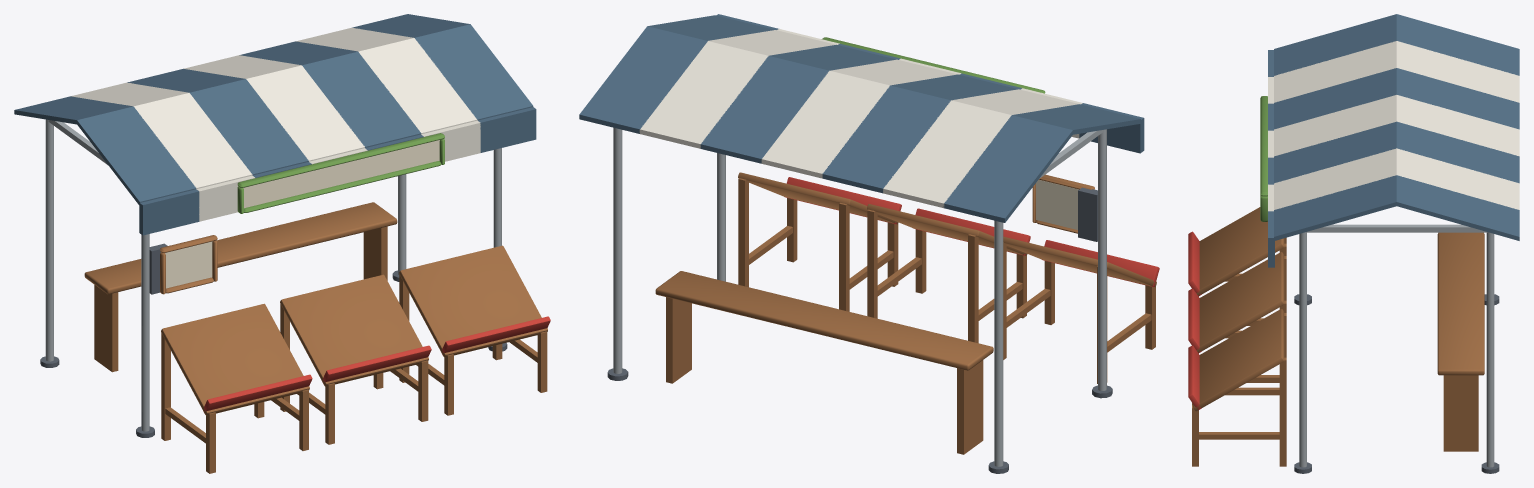
File: fruit_stall.glb
The picture shows the model from 3 angles, left to right: view 1: azimuth 30°, elevation 25°; view 2: azimuth 150°, elevation 25°; view 3: azimuth 270°, elevation 25°; orthographic projection. The views are drawn at different scales.
Parts seen in each view (by area): view 1: fruit_stall; view 2: fruit_stall; view 3: fruit_stall.
Part boxes in pixels (x1,y1,x2,y2): fruit_stall: (14,14,550,473); fruit_stall: (579,14,1159,473); fruit_stall: (1188,14,1519,473).
Bounding box in the file's own units: 3.8 × 2.62 × 2.83.
